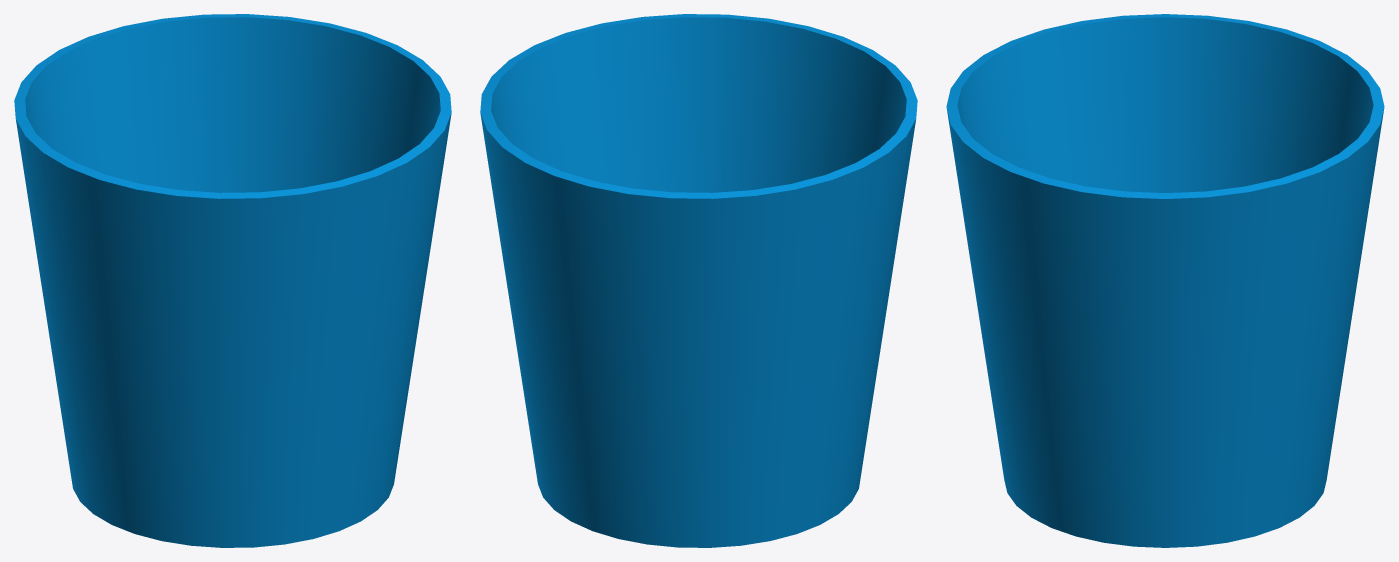
Rendered from bucket.glb.
3 renders of one model, left to right at view 1: azimuth 30°, elevation 25°; view 2: azimuth 150°, elevation 25°; view 3: azimuth 270°, elevation 25°, orthographic.
Parts seen in each view (by area): view 1: Bucket; view 2: Bucket; view 3: Bucket.
Part boxes in pixels (box(x1,y1,x2,y2)): Bucket: box(14, 14, 451, 547); Bucket: box(480, 14, 917, 547); Bucket: box(946, 14, 1384, 547).
Bounding box in the file's own units: 0.4 × 0.3775 × 0.4.
